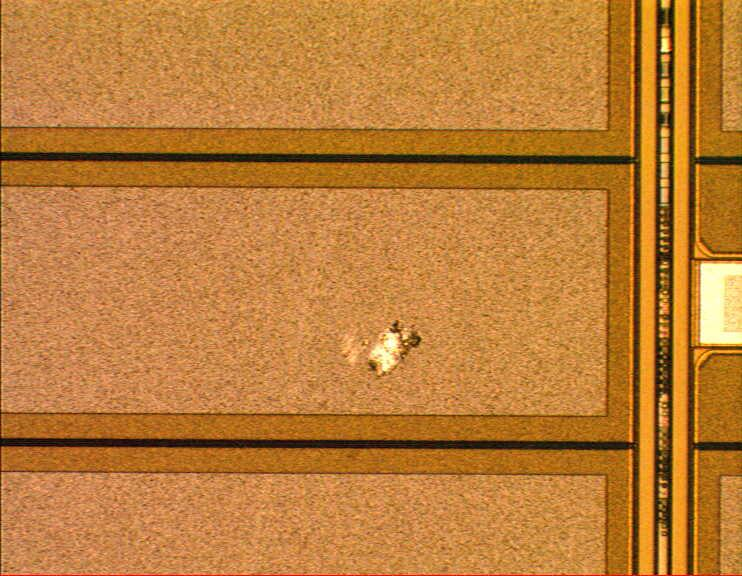SCRATCH: (315, 312, 427, 397)
